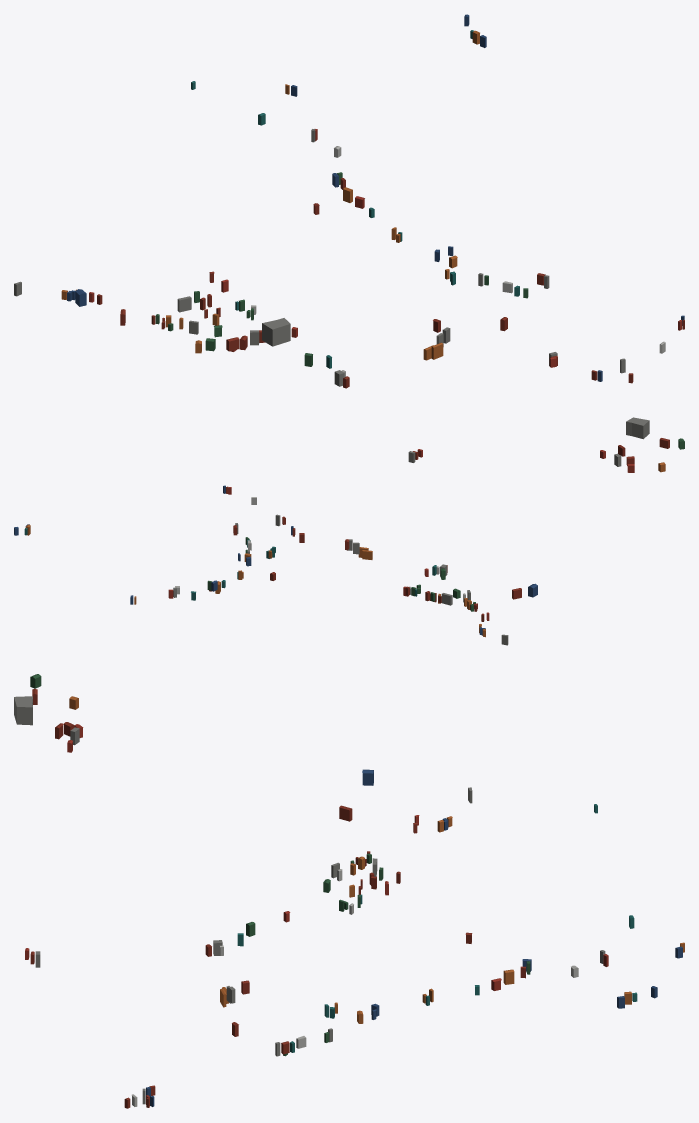
Rendered from near-15-27365-14868.34264a9c.glb.
3 views of the same model, one above another, from view 1: azimuth 30°, elevation 25°; view 2: azimuth 150°, elevation 25°; view 3: azimuth 270°, elevation 25° (orthographic). The views are drawn at different scales.
Bounding box in the file's own units: 1182 × 392 × 1178.
